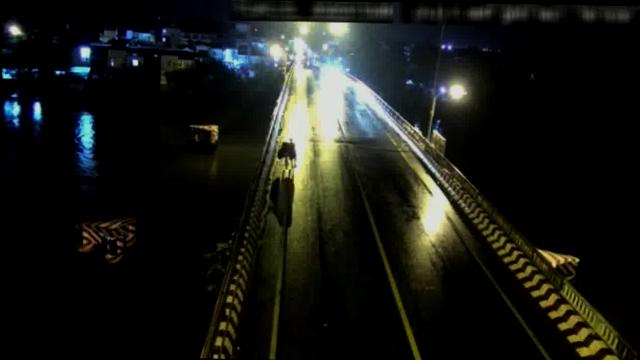Bike: (276, 134, 301, 169)
